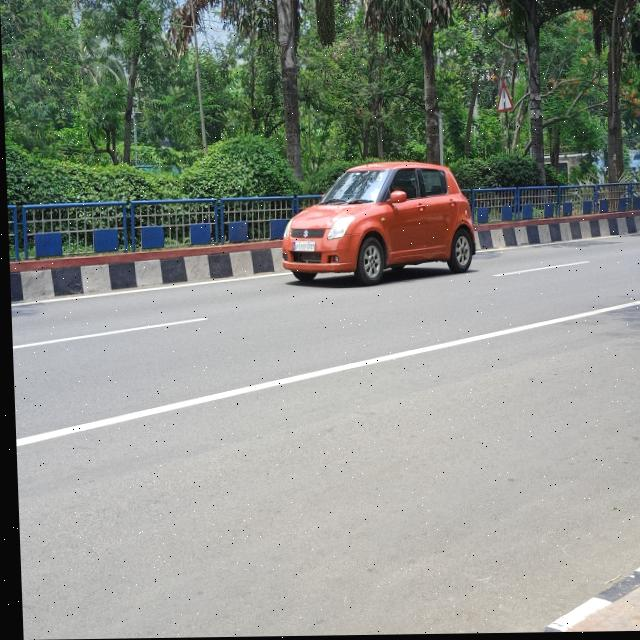car: (272, 156, 484, 305)
